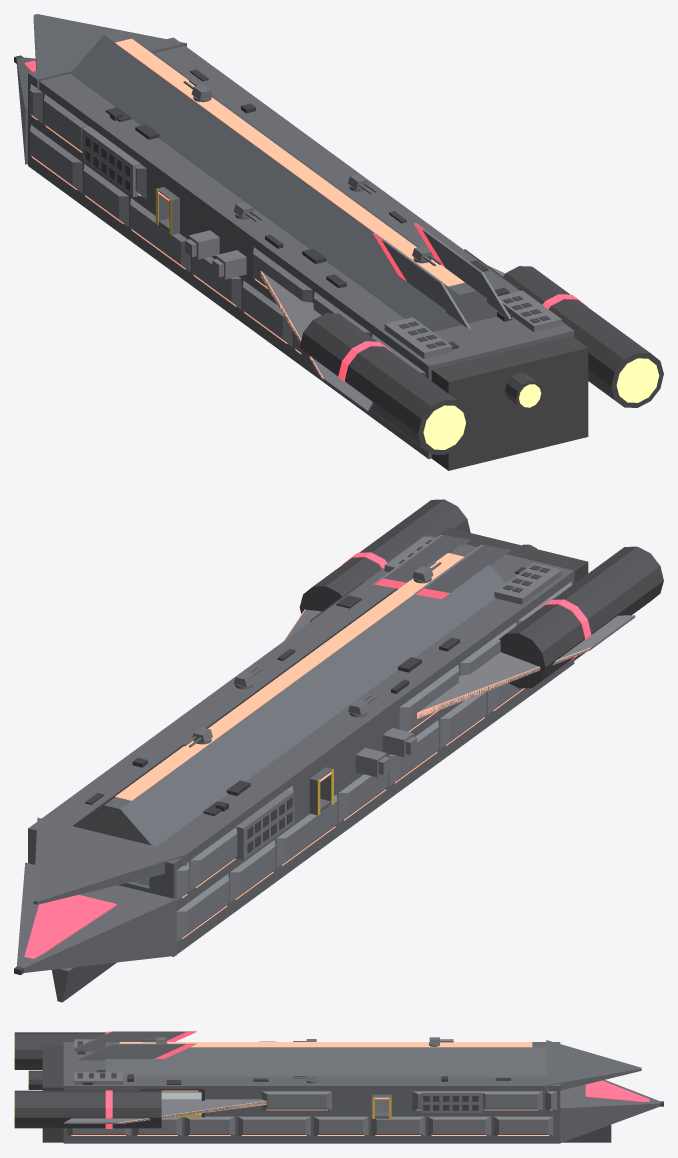
Rendered from ship_SMALL_FRIGATE_v2.glb.
3 renders of one model, top to bottom at view 1: azimuth 30°, elevation 25°; view 2: azimuth 150°, elevation 25°; view 3: azimuth 270°, elevation 25°, orthographic. The views are drawn at different scales.
Visible parts, largest first — view 1: SMALL_FRIGATE_Hull-col, SMALL_FRIGATE_Engines, SMALL_FRIGATE_Armor, SMALL_FRIGATE_Lights, SMALL_FRIGATE_EngineGlow, SMALL_FRIGATE_Details, SMALL_FRIGATE_Accent, SMALL_FRIGATE_EscapePod_1, SMALL_FRIGATE_EscapePod_2; view 2: SMALL_FRIGATE_Hull-col, SMALL_FRIGATE_Armor, SMALL_FRIGATE_Engines, SMALL_FRIGATE_Lights, SMALL_FRIGATE_Accent, SMALL_FRIGATE_Details, SMALL_FRIGATE_EscapePod_1, SMALL_FRIGATE_EscapePod_2; view 3: SMALL_FRIGATE_Hull-col, SMALL_FRIGATE_Armor, SMALL_FRIGATE_Engines, SMALL_FRIGATE_Lights, SMALL_FRIGATE_Accent, SMALL_FRIGATE_Details, SMALL_FRIGATE_Trim, SMALL_FRIGATE_CargoBayDoor-col, SMALL_FRIGATE_CargoBayShield, SMALL_FRIGATE_Hazard, SMALL_FRIGATE_Airlock_2_OuterDoor-col.
Part boxes in pixels (x1=…): SMALL_FRIGATE_Hull-col: x1=16, y1=14, x2=574, y2=458; SMALL_FRIGATE_Engines: x1=14, y1=55, x2=663, y2=470; SMALL_FRIGATE_Armor: x1=30, y1=84, x2=561, y2=412; SMALL_FRIGATE_Lights: x1=31, y1=38, x2=505, y2=379; SMALL_FRIGATE_EngineGlow: x1=423, y1=358, x2=659, y2=449; SMALL_FRIGATE_Details: x1=105, y1=69, x2=512, y2=349; SMALL_FRIGATE_Accent: x1=24, y1=60, x2=587, y2=381; SMALL_FRIGATE_EscapePod_1: x1=212, y1=250, x2=246, y2=279; SMALL_FRIGATE_EscapePod_2: x1=185, y1=230, x2=219, y2=259; SMALL_FRIGATE_Hull-col: x1=16, y1=535, x2=574, y2=1002; SMALL_FRIGATE_Armor: x1=176, y1=534, x2=635, y2=942; SMALL_FRIGATE_Engines: x1=14, y1=499, x2=663, y2=975; SMALL_FRIGATE_Lights: x1=115, y1=553, x2=591, y2=939; SMALL_FRIGATE_Accent: x1=24, y1=552, x2=591, y2=958; SMALL_FRIGATE_Details: x1=85, y1=567, x2=526, y2=815; SMALL_FRIGATE_EscapePod_1: x1=382, y1=728, x2=417, y2=757; SMALL_FRIGATE_EscapePod_2: x1=355, y1=748, x2=390, y2=777; SMALL_FRIGATE_Hull-col: x1=63, y1=1040, x2=660, y2=1143; SMALL_FRIGATE_Armor: x1=63, y1=1031, x2=556, y2=1135; SMALL_FRIGATE_Engines: x1=14, y1=1032, x2=663, y2=1142; SMALL_FRIGATE_Lights: x1=71, y1=1042, x2=552, y2=1135; SMALL_FRIGATE_Accent: x1=105, y1=1031, x2=649, y2=1128; SMALL_FRIGATE_Details: x1=77, y1=1041, x2=510, y2=1084; SMALL_FRIGATE_Trim: x1=139, y1=1088, x2=204, y2=1117; SMALL_FRIGATE_CargoBayDoor-col: x1=161, y1=1092, x2=201, y2=1099; SMALL_FRIGATE_CargoBayShield: x1=161, y1=1092, x2=201, y2=1099; SMALL_FRIGATE_Hazard: x1=173, y1=1097, x2=391, y2=1118; SMALL_FRIGATE_Airlock_2_OuterDoor-col: x1=375, y1=1099, x2=388, y2=1112.
Bounding box in the file's own units: 27.41 × 16.45 × 92.9.
